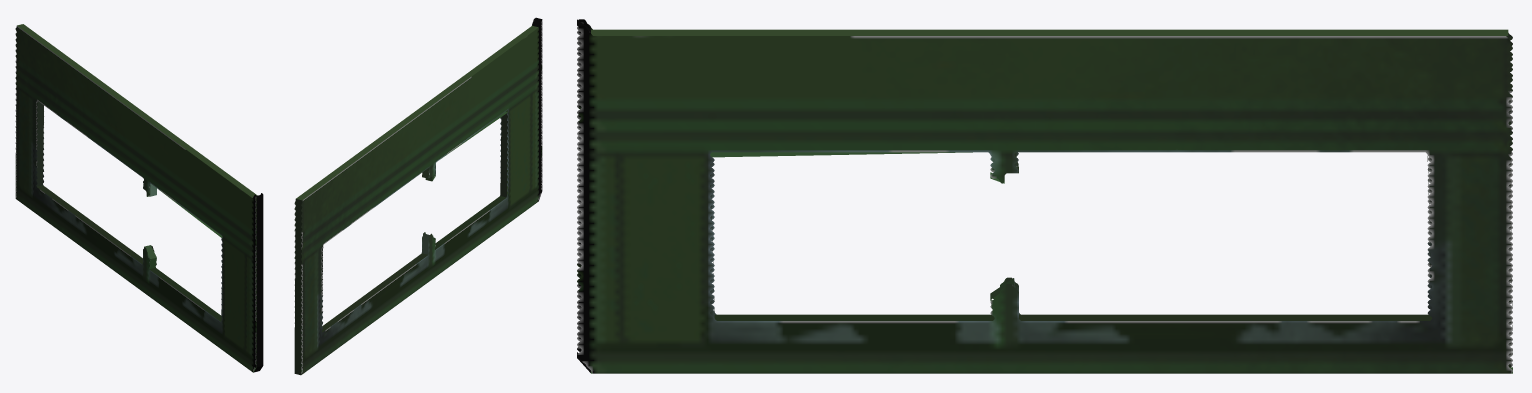
File: pz_native_location_shop_greenes_01_66_frame.obj
The picture shows the model from 3 angles, left to right: view 1: azimuth 30°, elevation 25°; view 2: azimuth 150°, elevation 25°; view 3: azimuth 270°, elevation 25°; orthographic projection. The views are drawn at different scales.
Visible parts, largest first — view 1: pz_native_location_shop_greenes_01_66_frame; view 2: pz_native_location_shop_greenes_01_66_frame; view 3: pz_native_location_shop_greenes_01_66_frame.
Part boxes in pixels (x1,y1,x2,y2): pz_native_location_shop_greenes_01_66_frame: [15, 24, 263, 372]; pz_native_location_shop_greenes_01_66_frame: [294, 17, 542, 375]; pz_native_location_shop_greenes_01_66_frame: [577, 19, 1512, 373].
Size of the model in its own units: 0.04 by 1.06 by 2.54.
1 material, 1 textured.
